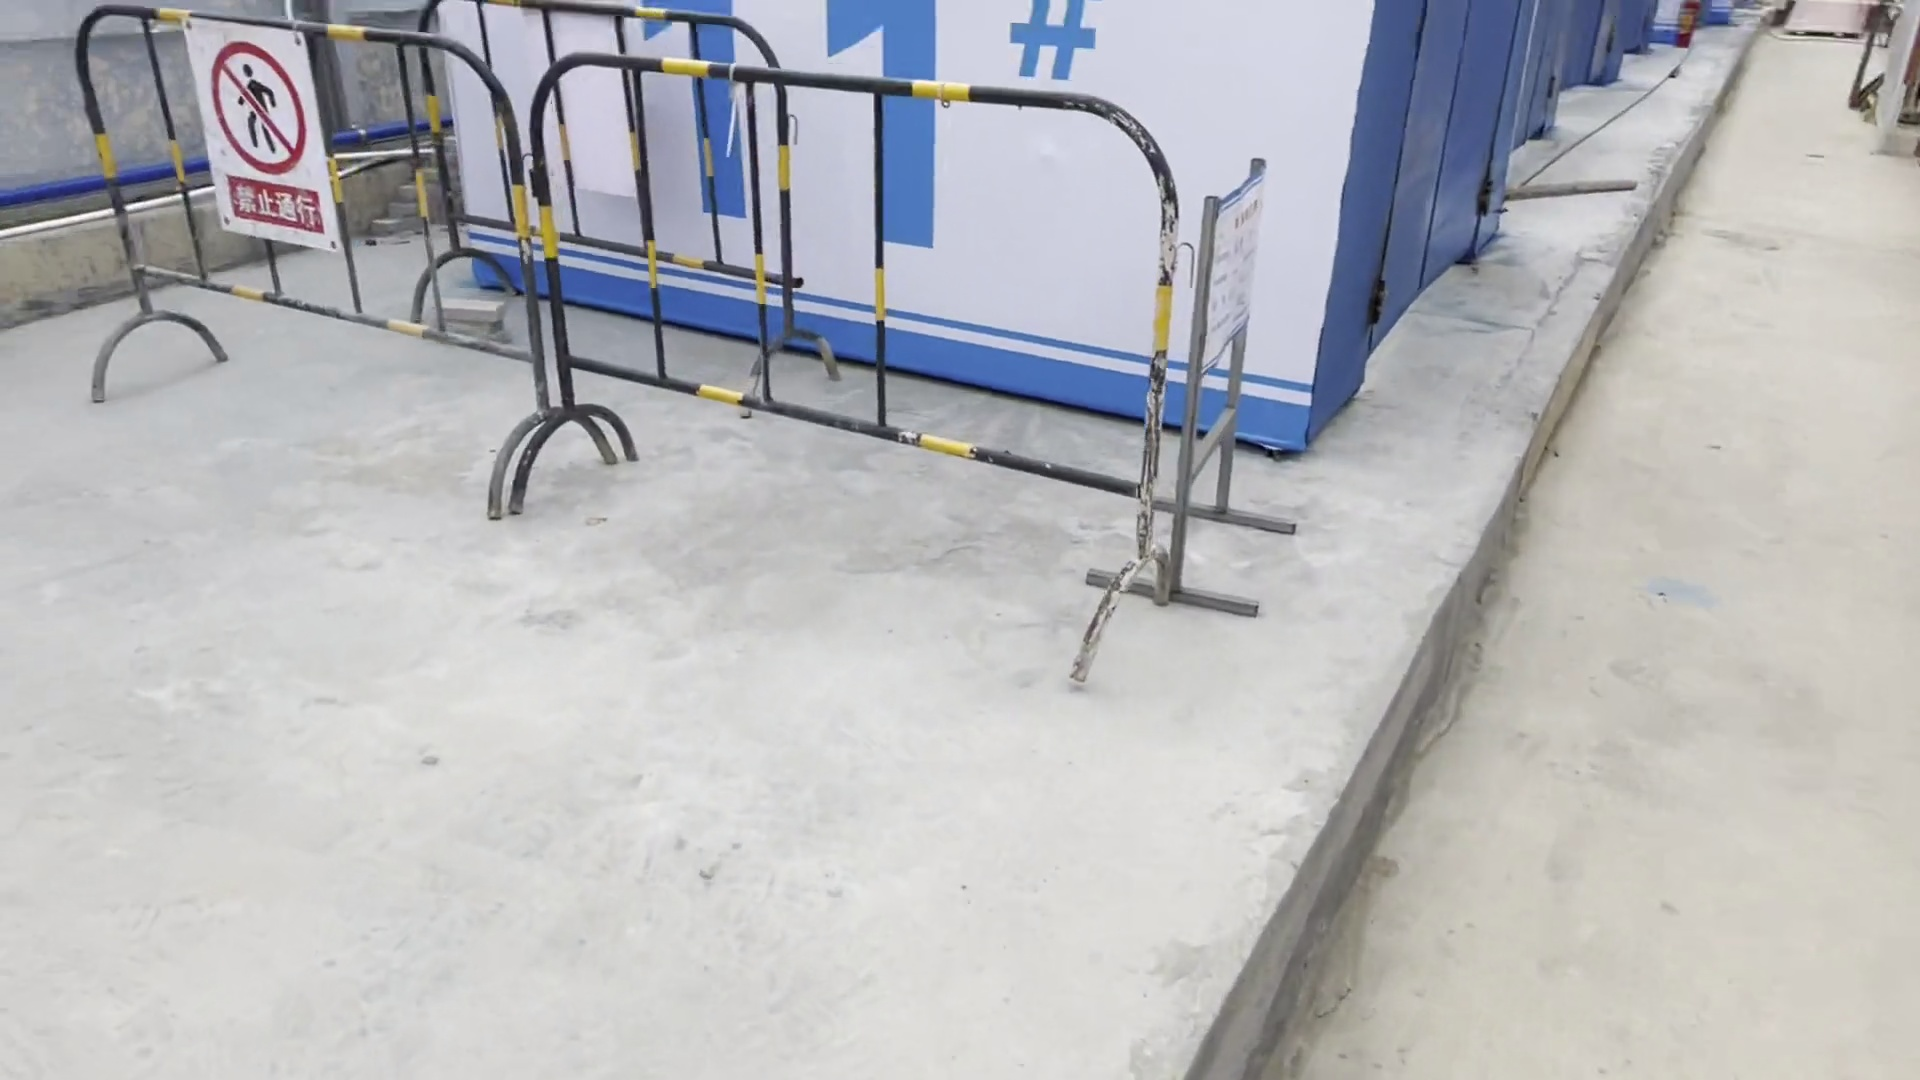fence: (73, 1, 1178, 688)
slogan: (186, 17, 344, 256)
